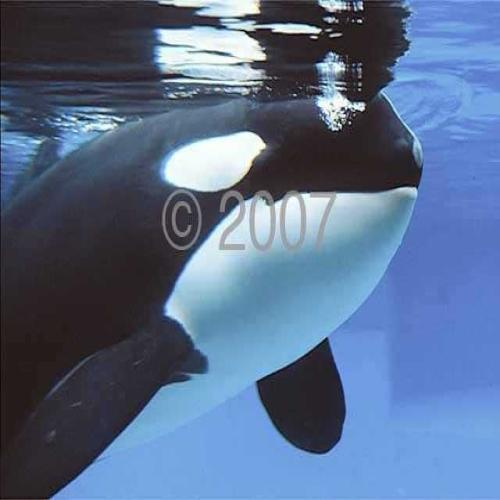killer_whale-endangered: (0, 69, 434, 434)
